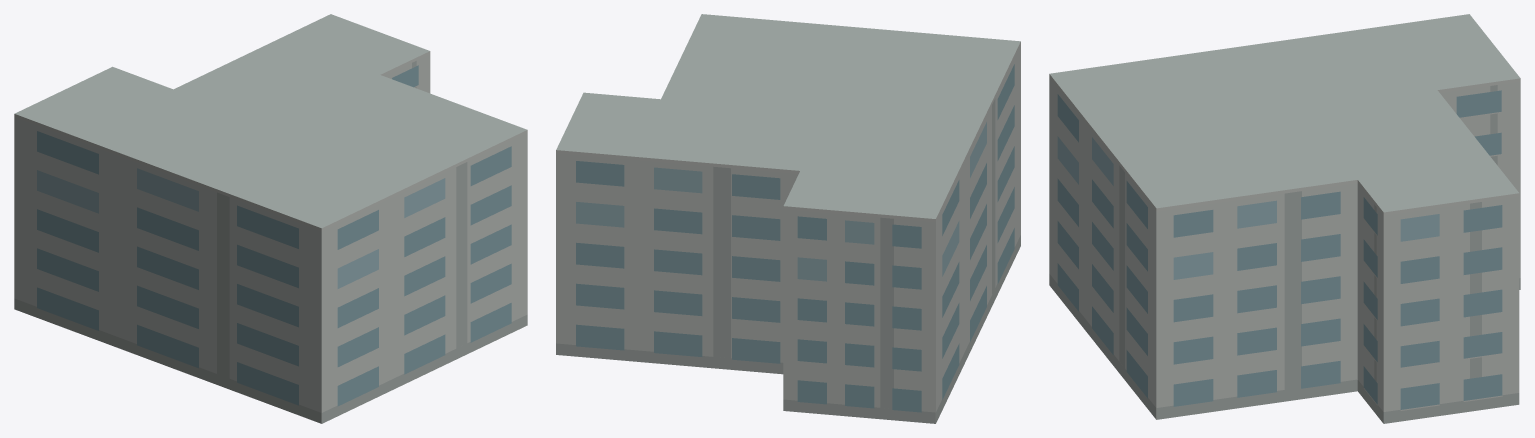
The model's file is residential-93e845db-bb82-402b-ad87-3536f1e65524.glb.
3 renders of one model, left to right at view 1: azimuth 30°, elevation 25°; view 2: azimuth 150°, elevation 25°; view 3: azimuth 270°, elevation 25°, orthographic. The views are drawn at different scales.
Parts seen in each view (by area): view 1: residential-93e845db-bb82-402b-ad87-3536f1e65524.tmp; view 2: residential-93e845db-bb82-402b-ad87-3536f1e65524.tmp; view 3: residential-93e845db-bb82-402b-ad87-3536f1e65524.tmp.
Boxes of the visible parts, x1,y1,x2,y2 form: residential-93e845db-bb82-402b-ad87-3536f1e65524.tmp: [14, 14, 527, 423]; residential-93e845db-bb82-402b-ad87-3536f1e65524.tmp: [556, 14, 1020, 423]; residential-93e845db-bb82-402b-ad87-3536f1e65524.tmp: [1049, 14, 1520, 423].
Bounding box in the file's own units: 30.7 × 15.25 × 30.81.
